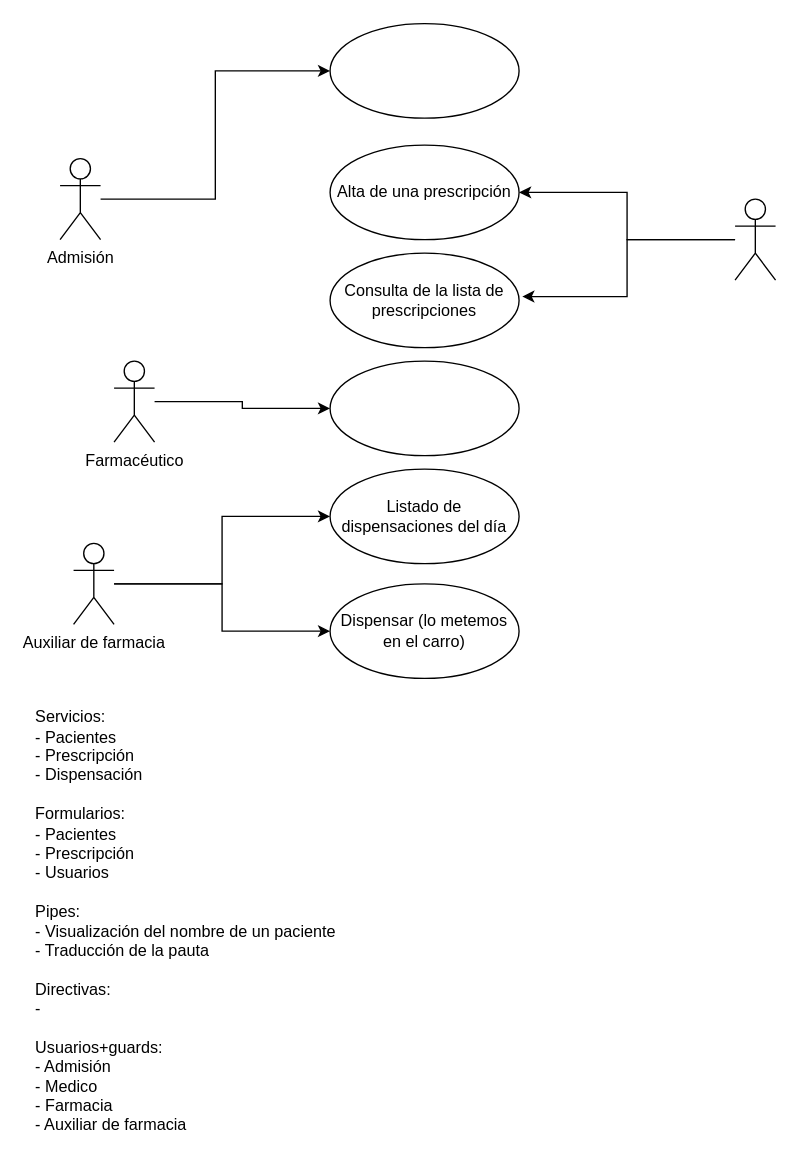
The diagram is 805 pixels wide and 1158 high, and some of its shapes have lost their labels. Here are the shapes that lost their labels. From the top down, the centre of each, then its label:
At point 424,70: "Alta de un paciente".
At point 755,239: "Médico".
At point 424,408: "Validación de la prescripción".
